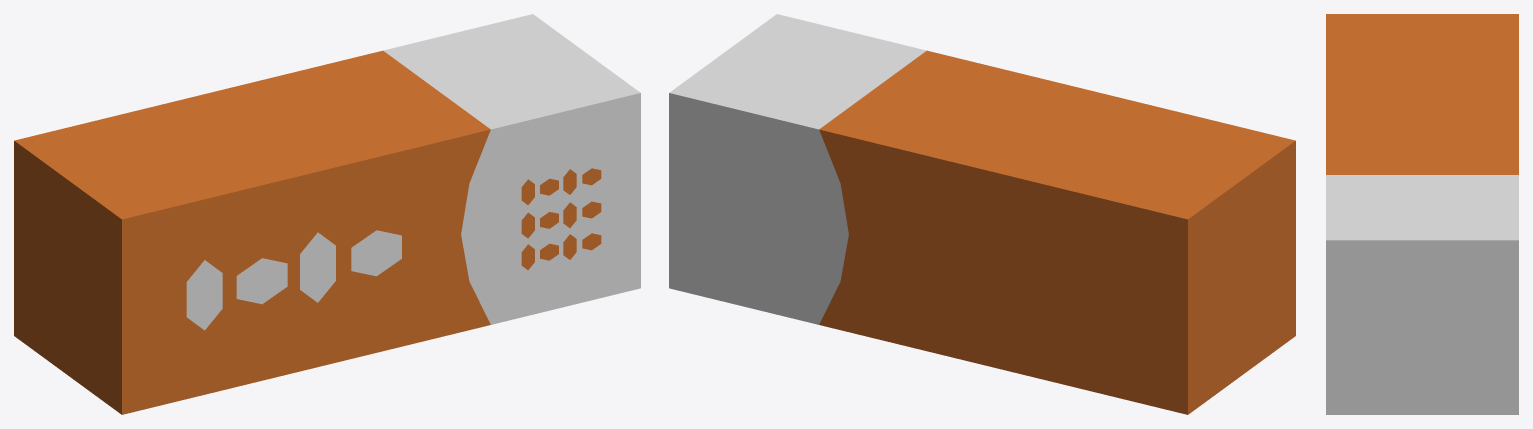
File: H_Medicine_2.fbx
3 renders of one model, left to right at view 1: azimuth 30°, elevation 25°; view 2: azimuth 150°, elevation 25°; view 3: azimuth 270°, elevation 25°, orthographic. The views are drawn at different scales.
Parts seen in each view (by area): view 1: H_Medicine_2; view 2: H_Medicine_2; view 3: H_Medicine_2.
Boxes of the visible parts, x1,y1,x2,y2 form: H_Medicine_2: [14, 14, 640, 414]; H_Medicine_2: [669, 14, 1295, 414]; H_Medicine_2: [1326, 14, 1518, 414].
Bounding box in the file's own units: 77.57 × 28.22 × 27.93.
